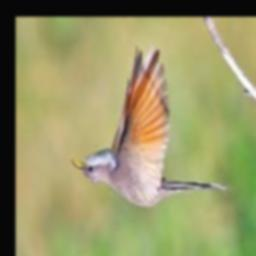Cuckoo: (71, 45, 231, 207)
